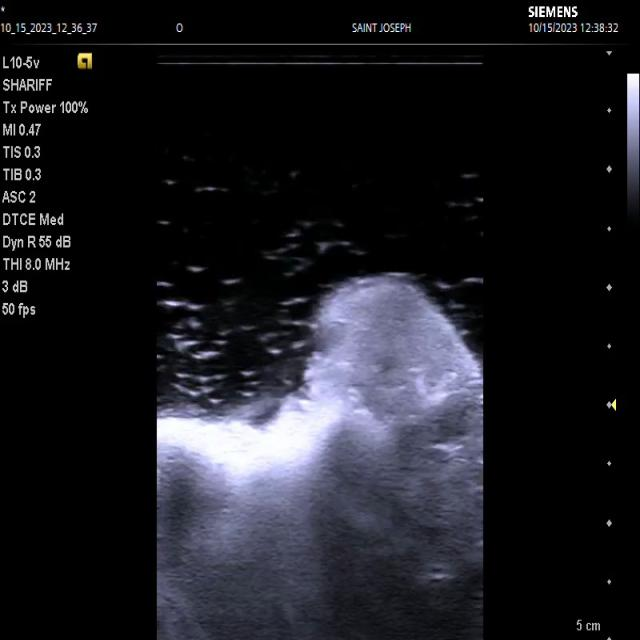tissue: (158, 274, 484, 640)
